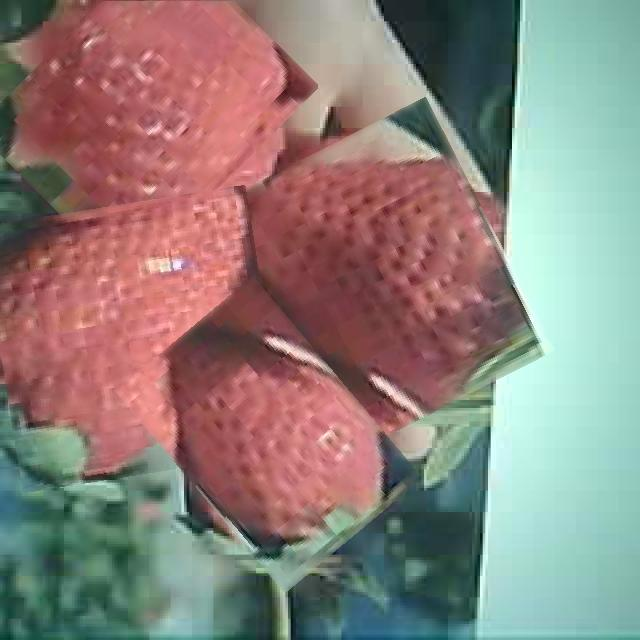strawberry: (246, 115, 530, 438), (0, 195, 277, 484), (0, 0, 300, 247), (147, 290, 391, 580)
